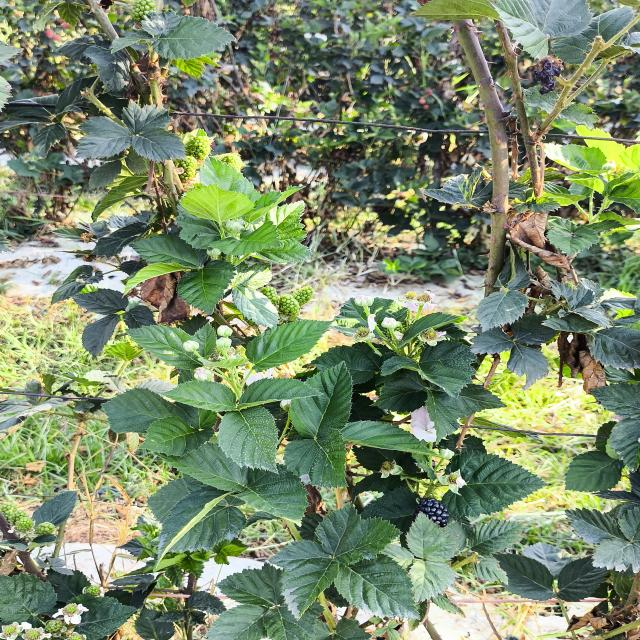boton: (354, 295, 374, 307), (381, 317, 400, 329), (439, 447, 455, 460), (193, 367, 208, 380), (217, 325, 232, 337), (216, 337, 232, 348), (182, 340, 198, 351)
maduro: (414, 498, 449, 527)
verde: (186, 136, 211, 161), (175, 155, 198, 182), (213, 153, 245, 171), (279, 294, 300, 317), (293, 286, 314, 306), (260, 286, 279, 306)
